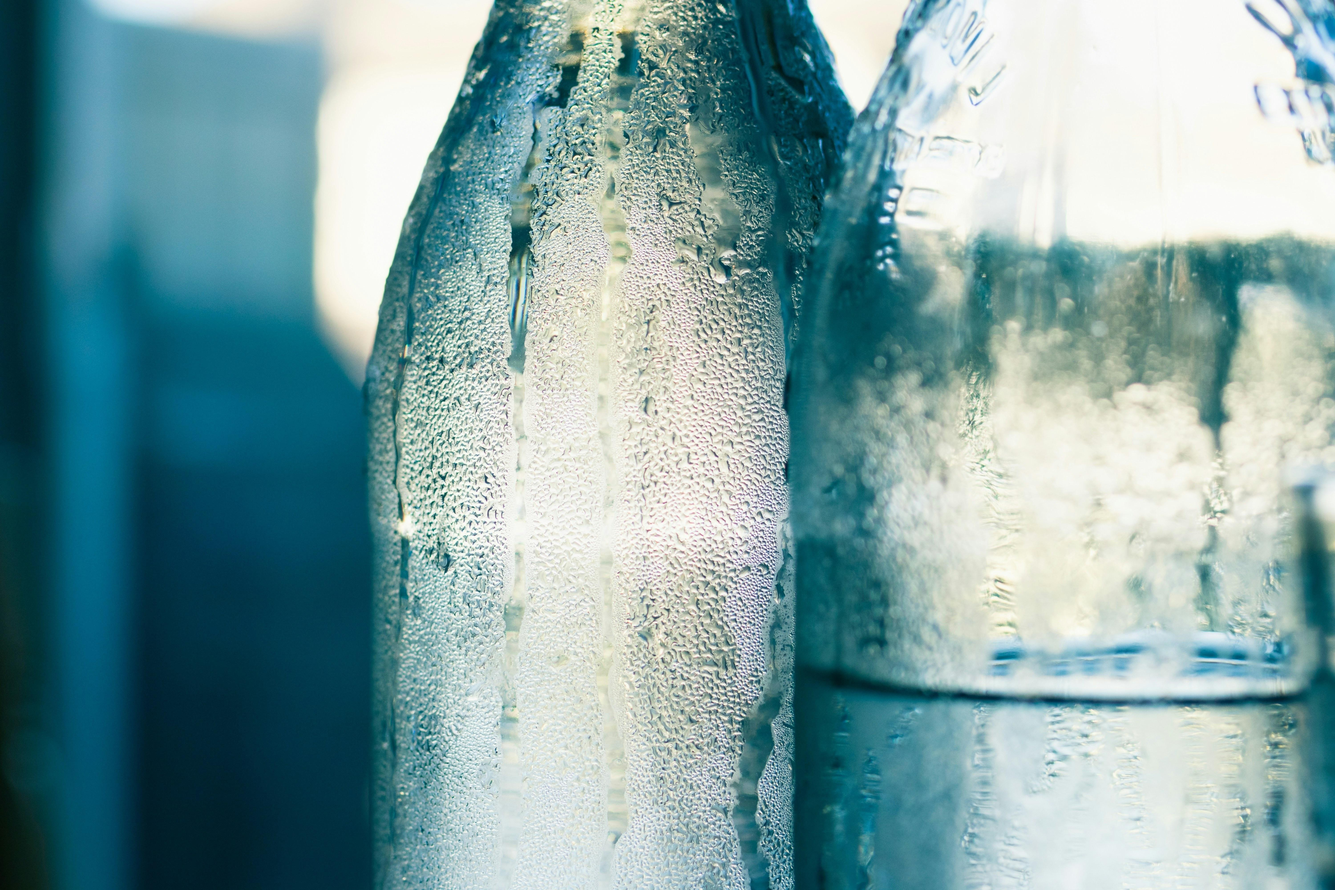Bottle-Detection: (734, 0, 1335, 888), (323, 0, 894, 890)
